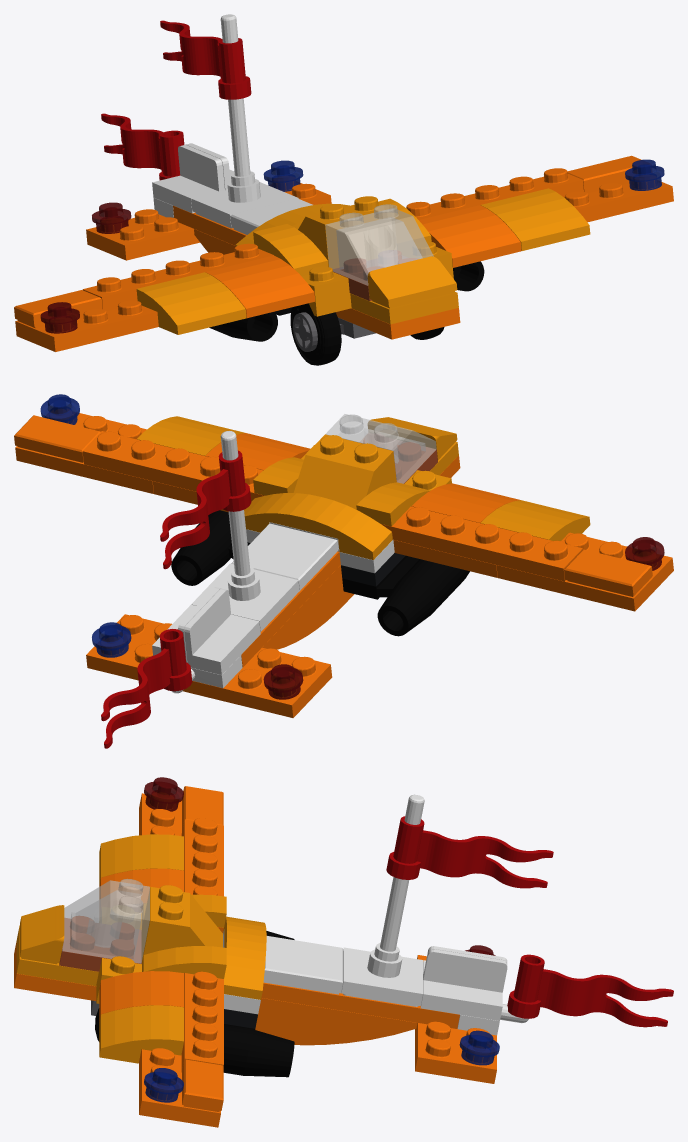
Rendered from yellow-plane.obj.
The picture shows the model from 3 angles, top to bottom: view 1: azimuth 30°, elevation 25°; view 2: azimuth 150°, elevation 25°; view 3: azimuth 270°, elevation 25°; orthographic projection.
Visible parts, largest first — view 1: Part.7, Part.32, Part.12, Part.33, Part.31, Part.34, Part.20, Part.36, Part.47, Part.27, Part.46, Part.21 (+25 smaller); view 2: Part.12, Part.47, Part.48, Part.8, Part.46, Part.50, Part.1, Part.21, Part.20, Part.9, Part.36, Part.7 (+27 smaller); view 3: Part.21, Part.20, Part.7, Part.2, Part.19, Part.31, Part.8, Part.9, Part.46, Part.12, Part.28, Part.48 (+23 smaller).
Part boxes in pixels (<box>): Part.7: <box>325,204,433,285</box>; Part.32: <box>136,272,246,334</box>; Part.12: <box>86,181,331,260</box>; Part.33: <box>205,255,315,318</box>; Part.31: <box>480,188,590,250</box>; Part.34: <box>419,205,521,267</box>; Part.20: <box>160,20,251,99</box>; Part.36: <box>15,300,158,351</box>; Part.47: <box>82,243,273,311</box>; Part.27: <box>367,256,457,308</box>; Part.46: <box>406,168,583,219</box>; Part.21: <box>101,113,184,180</box>; Part.12: <box>86,614,332,717</box>; Part.47: <box>381,506,582,581</box>; Part.48: <box>244,493,392,559</box>; Part.8: <box>293,434,396,509</box>; Part.46: <box>82,431,264,501</box>; Part.50: <box>342,555,469,636</box>; Part.1: <box>184,588,260,674</box>; Part.21: <box>101,629,192,748</box>; Part.20: <box>160,450,251,569</box>; Part.9: <box>231,523,338,591</box>; Part.36: <box>496,532,673,611</box>; Part.7: <box>325,414,436,483</box>; Part.21: <box>507,954,673,1027</box>; Part.20: <box>386,816,553,888</box>; Part.7: <box>62,878,149,963</box>; Part.2: <box>420,949,507,1020</box>; Part.19: <box>255,998,417,1045</box>; Part.31: <box>99,1005,183,1063</box>; Part.8: <box>142,885,222,962</box>; Part.9: <box>263,936,342,994</box>; Part.46: <box>181,971,223,1072</box>; Part.12: <box>415,955,496,1083</box>; Part.28: <box>341,947,422,1006</box>; Part.48: <box>223,916,266,999</box>.
Size of the model in its own units: 144 by 51.6 by 131.
